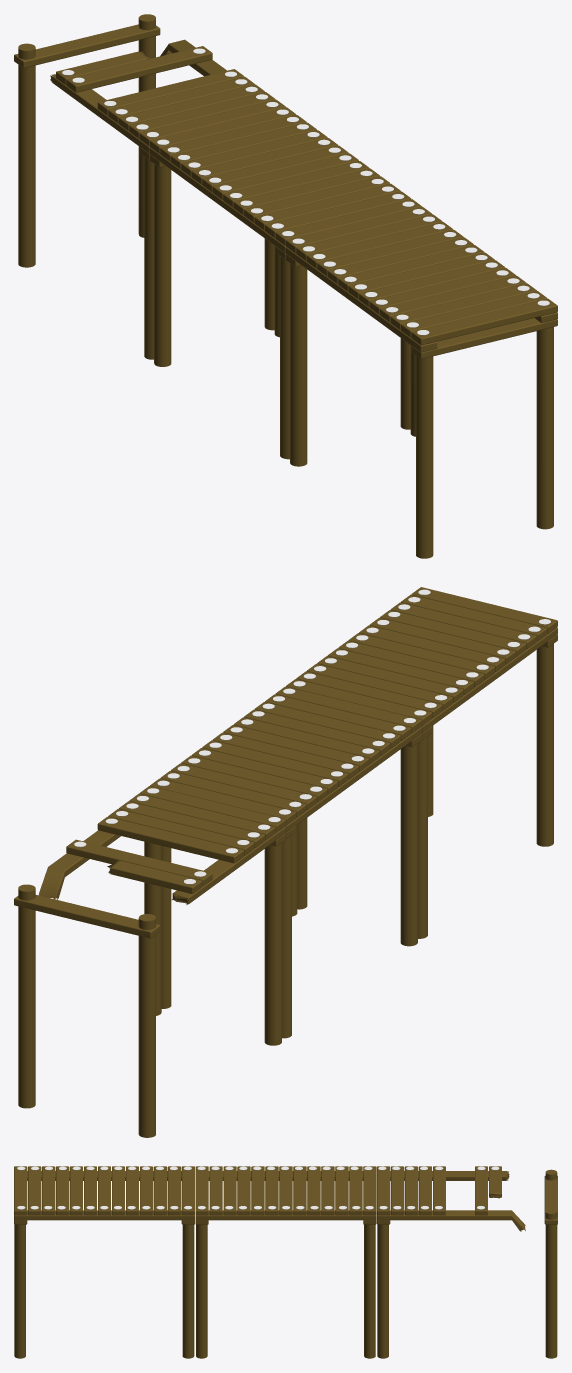
Rendered from bridge.fbx.
3 renders of one model, top to bottom at view 1: azimuth 30°, elevation 25°; view 2: azimuth 150°, elevation 25°; view 3: azimuth 270°, elevation 25°, orthographic. The views are drawn at different scales.
Visible parts, largest first — view 1: pCube18, pCube19, polySurface9, polySurface20, polySurface11, polySurface16, polySurface3, polySurface21, polySurface8, polySurface1, polySurface5, polySurface19 (+4 smaller); view 2: pCube19, pCube18, polySurface9, polySurface5, polySurface16, polySurface8, polySurface11, polySurface20, polySurface19, polySurface21, polySurface1, polySurface3 (+4 smaller); view 3: pCube19, pCube18, polySurface5, polySurface7, polySurface4, polySurface19, polySurface1, polySurface21, polySurface20, polySurface8, polySurface3, polySurface11 (+2 smaller).
Part boxes in pixels (x1,y1,x2,y2): pCube18: (285,206,557,558); pCube19: (149,107,421,459); polySurface9: (18,43,35,267); polySurface20: (66,46,212,92); polySurface11: (14,24,160,68); polySurface16: (144,157,153,359); polySurface3: (108,76,254,123); polySurface21: (118,84,264,130); polySurface8: (97,69,243,115); polySurface1: (129,92,275,138); polySurface5: (138,14,155,237); polySurface19: (139,99,285,146); pCube19: (150,686,421,1038); pCube18: (286,587,557,938); polySurface9: (138,914,155,1137); polySurface5: (18,884,35,1108); polySurface16: (264,843,281,1045); polySurface8: (97,816,243,863); polySurface11: (14,895,160,938); polySurface20: (66,839,212,886); polySurface19: (139,786,285,832); polySurface21: (118,801,264,847); polySurface1: (129,793,275,840); polySurface3: (108,809,254,855); pCube19: (195,1166,376,1358); pCube18: (14,1166,194,1358); polySurface5: (545,1209,557,1358); polySurface7: (377,1224,388,1358); polySurface4: (377,1210,525,1231); polySurface19: (377,1166,390,1215); polySurface1: (391,1166,404,1215); polySurface21: (405,1166,418,1215); polySurface20: (475,1166,487,1215); polySurface8: (433,1166,445,1215); polySurface3: (419,1166,431,1215); polySurface11: (544,1175,557,1224).
Size of the model in its own units: 10.02 by 15.46 by 51.37.
